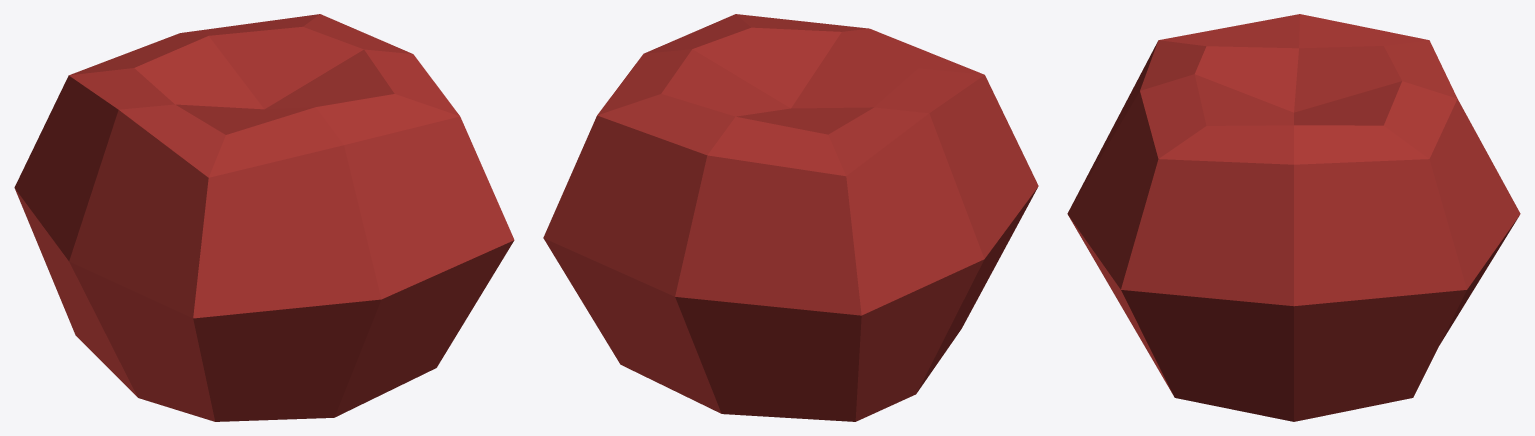
Rendered from tomato.fbx.
3 renders of one model, left to right at view 1: azimuth 30°, elevation 25°; view 2: azimuth 150°, elevation 25°; view 3: azimuth 270°, elevation 25°, orthographic. The views are drawn at different scales.
Visible parts, largest first — view 1: tomato; view 2: tomato; view 3: tomato.
Part boxes in pixels (x1,y1,x2,y2): tomato: [14, 14, 514, 421]; tomato: [543, 14, 1038, 421]; tomato: [1067, 14, 1520, 421].
Size of the model in its own units: 10.63 by 8.12 by 11.02.
Materials: 1 (1 with a texture image).
